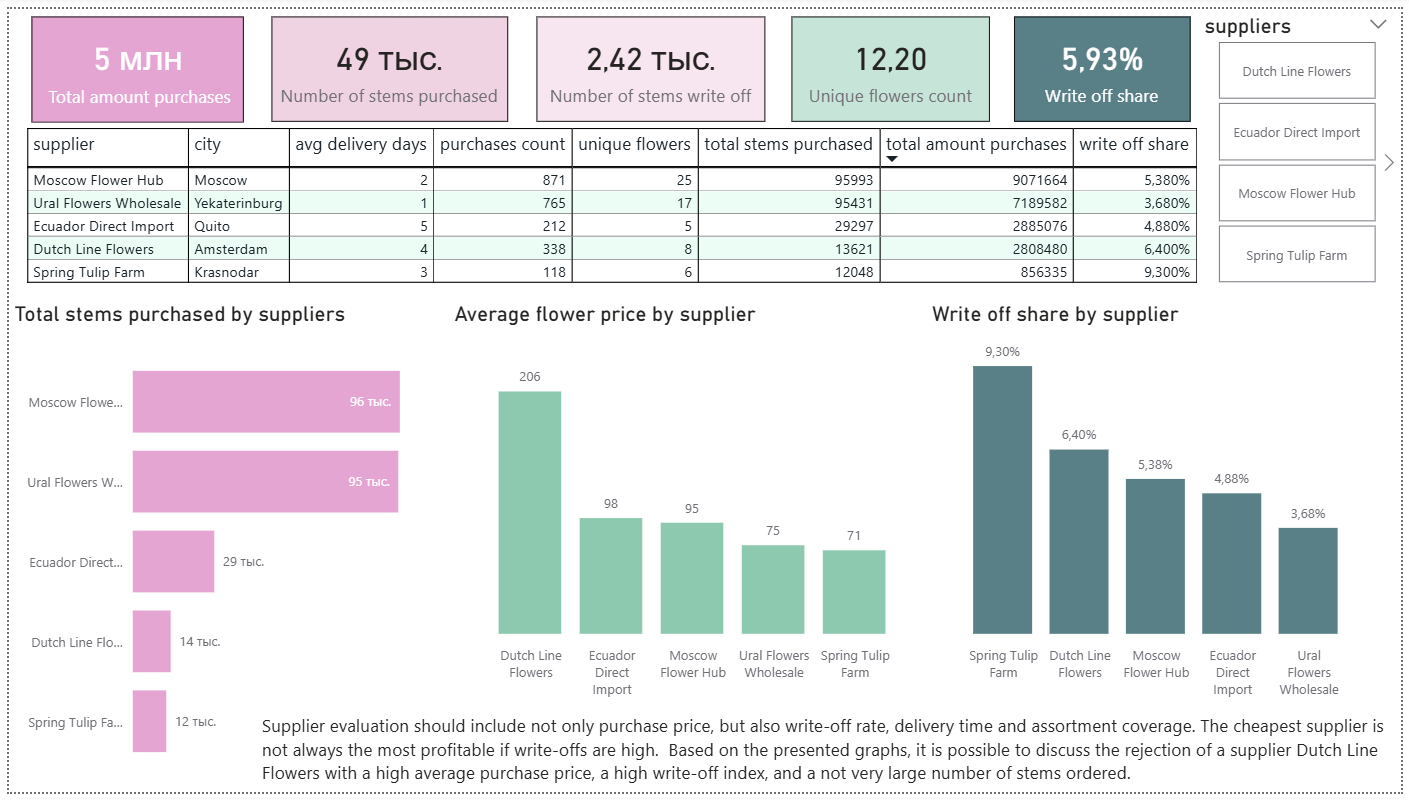

Layout of this report page (visuals, bound fields, positions):
{"tool":"powerbi","page":{"name":"Supplier Performance","canvas":[1280,720],"ordinal":5},"visuals":[{"type":"card","fields":{"Values":["Avg(04_total_result_by_suppliers.total_stems_purchased)"]},"box":[262.5,7,216.4,96.3],"z":0},{"type":"slicer","fields":{"Values":["04_total_result_by_suppliers.supplier_name"]},"box":[1086.2,0,194.1,258.3],"z":1000},{"type":"card","fields":{"Values":["Avg(04_total_result_by_suppliers.count_of_stems_write_off)"]},"box":[492.8,7,210.8,96.3],"z":2000},{"type":"card","fields":{"Values":["Avg(04_total_result_by_suppliers.count_write_off_share)"]},"box":[911.7,7,162,96.3],"z":3000},{"type":"card","fields":{"Values":["Avg(04_total_result_by_suppliers.total_sum_purchases)"]},"box":[55.8,7,195.5,97.7],"z":4000},{"type":"card","fields":{"Values":["Avg(04_total_result_by_suppliers.unique_flowers_count)"]},"box":[716.2,7,182.9,96.3],"z":5000},{"type":"clusteredBarChart","title":"Total stems purchased by suppliers","fields":{"Category":["04_total_result_by_suppliers.supplier_name"],"Y":["Sum(04_total_result_by_suppliers.total_stems_purchased)"]},"box":[0,269.5,404.9,451],"z":6000},{"type":"columnChart","title":"Average flower price by supplier","fields":{"Category":["04_total_result_by_suppliers.supplier_name"],"Y":["Sum(04_total_result_by_suppliers.avg_price_per_stem)"]},"box":[404.9,269.5,438.4,372.8],"z":7000},{"type":"columnChart","title":"Write off share by supplier","fields":{"Category":["04_total_result_by_suppliers.supplier_name"],"Y":["Sum(04_total_result_by_suppliers.count_write_off_share)"]},"box":[843.3,269.5,413.3,372.8],"z":8000},{"type":"tableEx","fields":{"Values":["04_total_result_by_suppliers.supplier_name","04_total_result_by_suppliers.city","04_total_result_by_suppliers.avg_delivery_days","04_total_result_by_suppliers.purchases_count","04_total_result_by_suppliers.unique_flowers_count","04_total_result_by_suppliers.total_stems_purchased","04_total_result_by_suppliers.total_sum_purchases","04_total_result_by_suppliers.count_write_off_share"]},"box":[9.8,104.7,1089,164.7],"z":9000},{"type":"actionButton","box":[0,0,100,40],"z":10000},{"type":"textbox","box":[227.6,642.2,1052.7,78.2],"z":11000}]}

Visuals, with their boxes in screenshot pixels (x1, y1, x2, y2), scaled from the page's 1280x720 canvas onto the 1409x801 screenshot:
card - Avg(04_total_result_by_suppliers.total_stems_purchased): Rect(289, 8, 527, 115)
slicer - 04_total_result_by_suppliers.supplier_name: Rect(1196, 0, 1408, 287)
card - Avg(04_total_result_by_suppliers.count_of_stems_write_off): Rect(542, 8, 775, 115)
card - Avg(04_total_result_by_suppliers.count_write_off_share): Rect(1004, 8, 1182, 115)
card - Avg(04_total_result_by_suppliers.total_sum_purchases): Rect(61, 8, 277, 116)
card - Avg(04_total_result_by_suppliers.unique_flowers_count): Rect(788, 8, 990, 115)
"Total stems purchased by suppliers" clusteredBarChart: Rect(0, 300, 446, 800)
"Average flower price by supplier" columnChart: Rect(446, 300, 928, 715)
"Write off share by supplier" columnChart: Rect(928, 300, 1383, 715)
tableEx - 04_total_result_by_suppliers.supplier_name x 04_total_result_by_suppliers.city: Rect(11, 116, 1210, 300)
actionButton: Rect(0, 0, 110, 44)
textbox: Rect(251, 714, 1408, 800)
